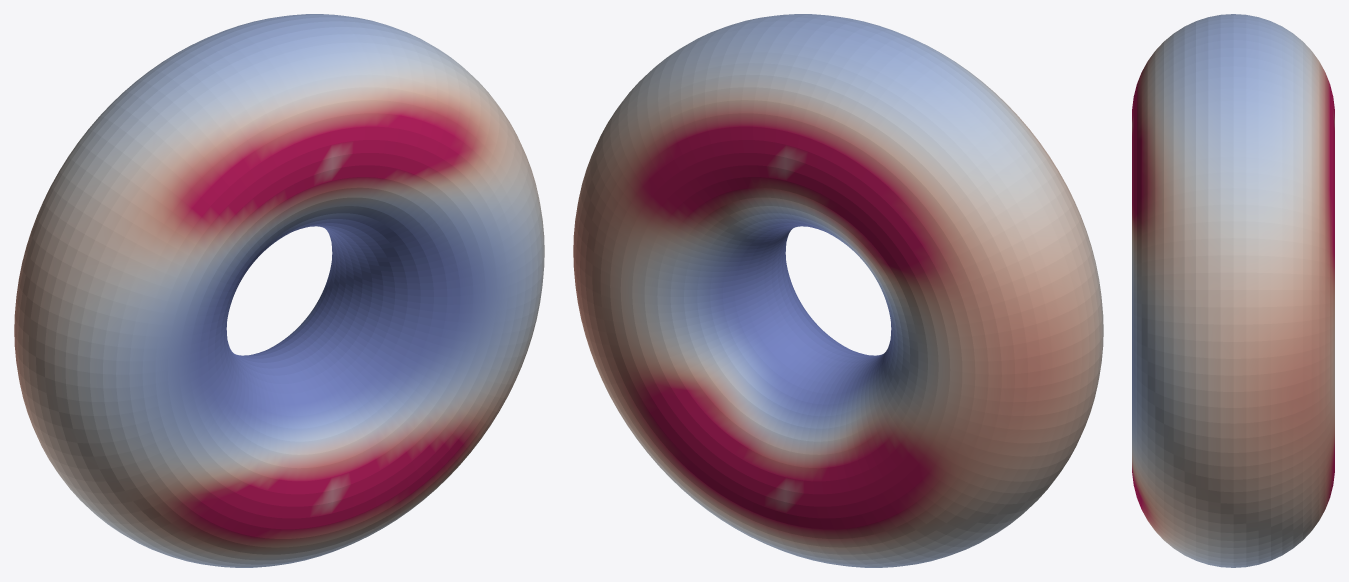
3 views of the same model, side by side, from view 1: azimuth 30°, elevation 25°; view 2: azimuth 150°, elevation 25°; view 3: azimuth 270°, elevation 25° (orthographic). The views are drawn at different scales.
Parts seen in each view (by area): view 1: world; view 2: world; view 3: world.
Part boxes in pixels (box(x1,y1,x2,y2)): world: box(14, 14, 544, 567); world: box(573, 14, 1103, 567); world: box(1132, 14, 1334, 567).
Bounding box in the file's own units: 20 × 20 × 7.32.
